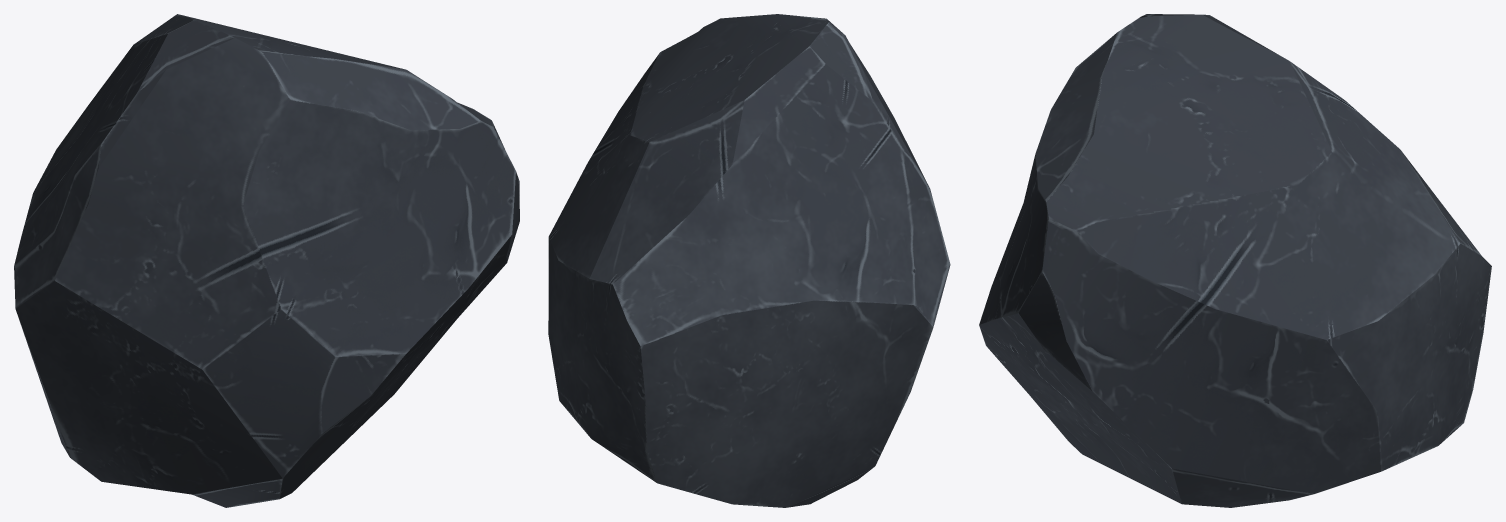
Rendered from env_rock.glb.
3 renders of one model, left to right at view 1: azimuth 30°, elevation 25°; view 2: azimuth 150°, elevation 25°; view 3: azimuth 270°, elevation 25°, orthographic. The views are drawn at different scales.
Parts seen in each view (by area): view 1: lp; view 2: lp; view 3: lp.
Part boxes in pixels (box(x1,y1,x2,y2)): lp: box(14, 14, 519, 507); lp: box(548, 14, 950, 507); lp: box(979, 14, 1491, 507).
Size of the model in its own units: 0.9062 by 0.9953 by 1.
Materials: 1 (1 with a texture image).
